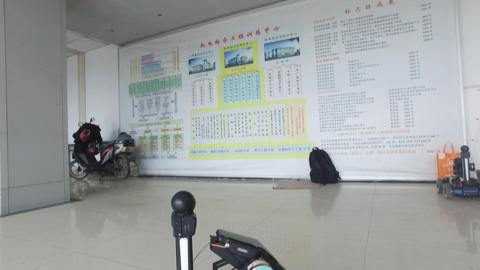bag: (305, 145, 345, 187), (433, 140, 463, 182)
chariot: (432, 144, 479, 201)
